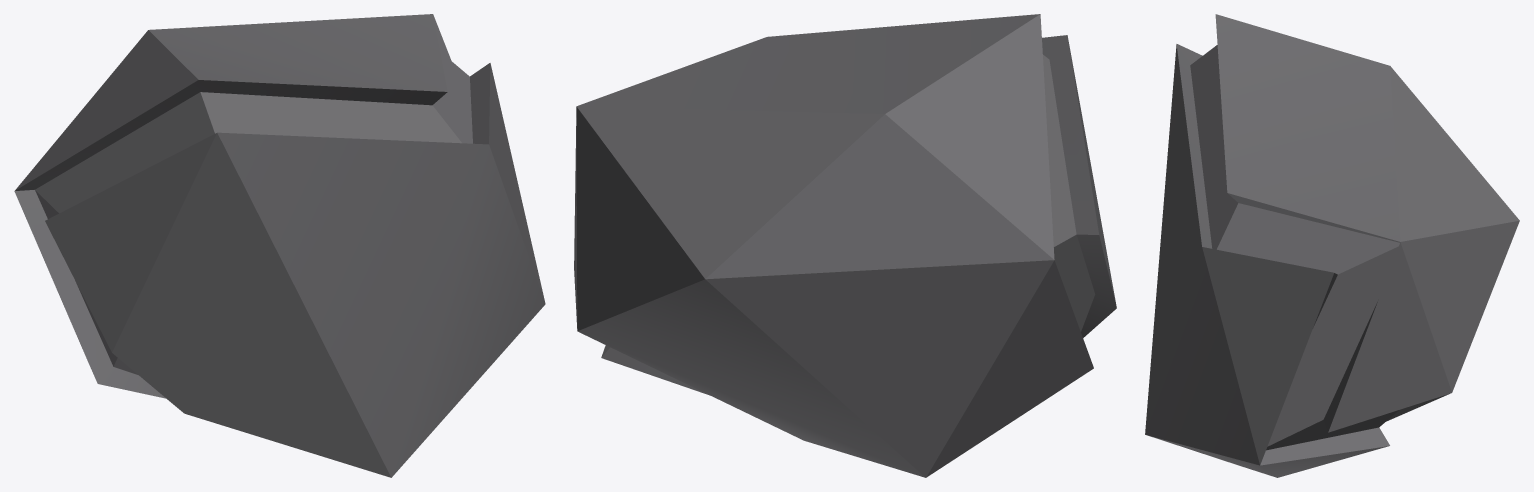
The model's file is Roca Rota B.fbx.
3 renders of one model, left to right at view 1: azimuth 30°, elevation 25°; view 2: azimuth 150°, elevation 25°; view 3: azimuth 270°, elevation 25°, orthographic. The views are drawn at different scales.
Parts seen in each view (by area): view 1: polySurface502; view 2: polySurface502; view 3: polySurface502.
Boxes of the visible parts, box(x1,y1,x2,y2) form: polySurface502: box(14, 14, 545, 477); polySurface502: box(574, 14, 1116, 477); polySurface502: box(1145, 14, 1519, 477).
Bounding box in the file's own units: 1.43 × 1.18 × 1.08.
